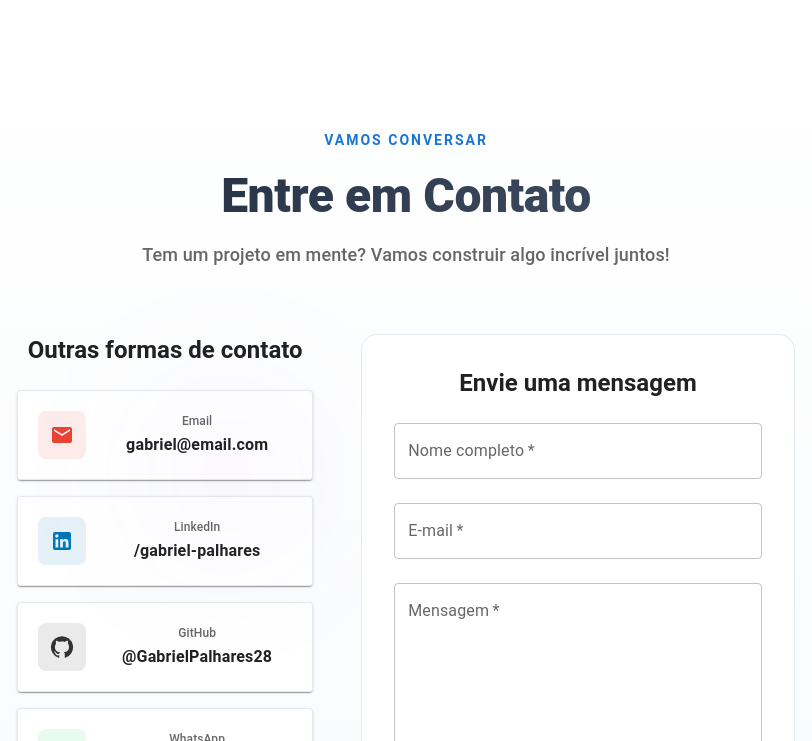
Test: Contact › posts the mapped payload and resets the form on success
Type "Gabriel Palhares" into the field labelled "Nome completo *" at (578, 451), box [394,423,762,479]
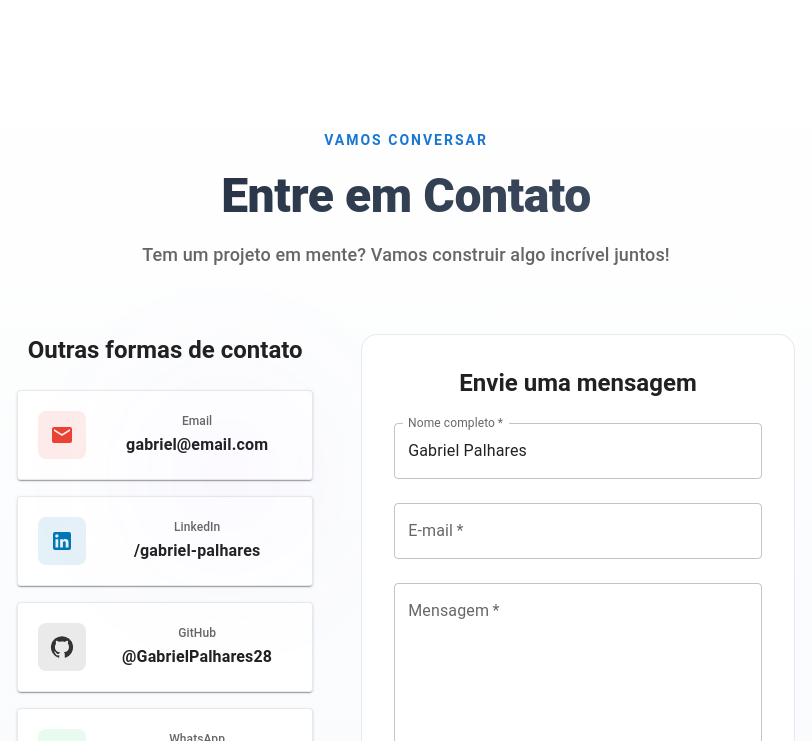
Type "gabriel@example.com" into the field labelled "E-mail *" at (578, 531), box [394,503,762,559]
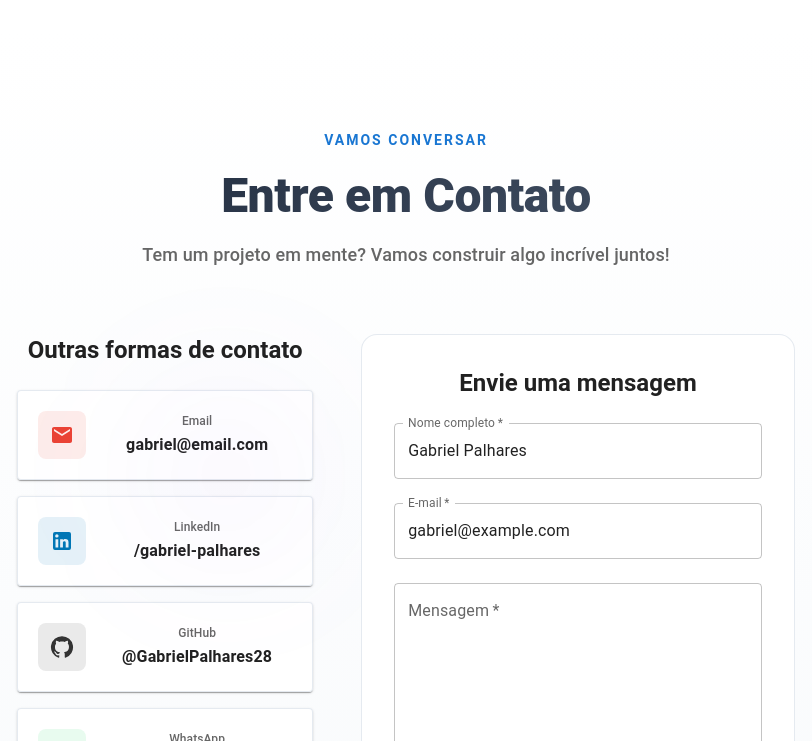
Type "Mensagem com mais de dez caracteres" into the text box labelled "Mensagem *" at (578, 668), box [408,599,748,737]
(page scrolled)
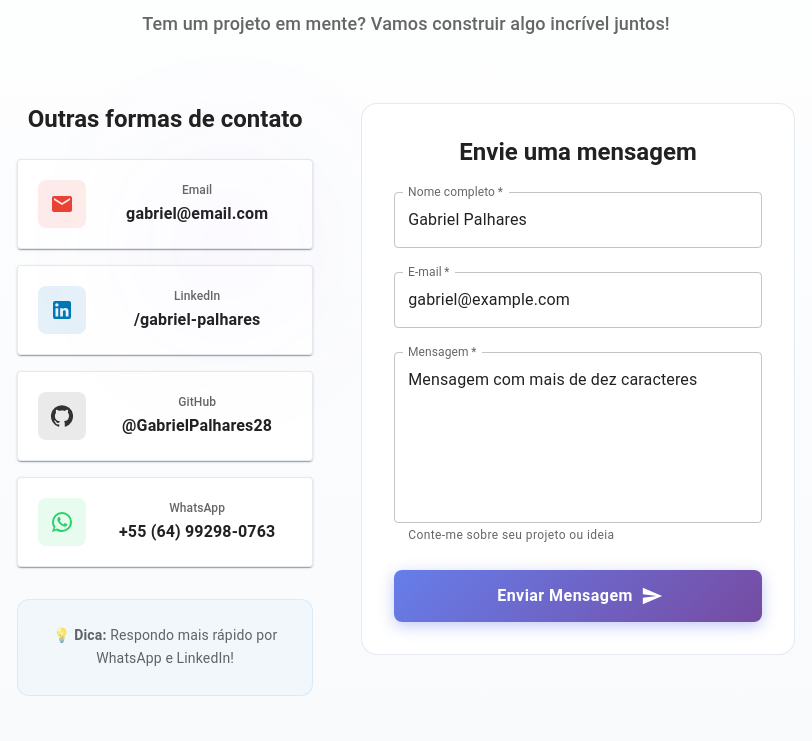
Submit the form, box [361,103,795,654]
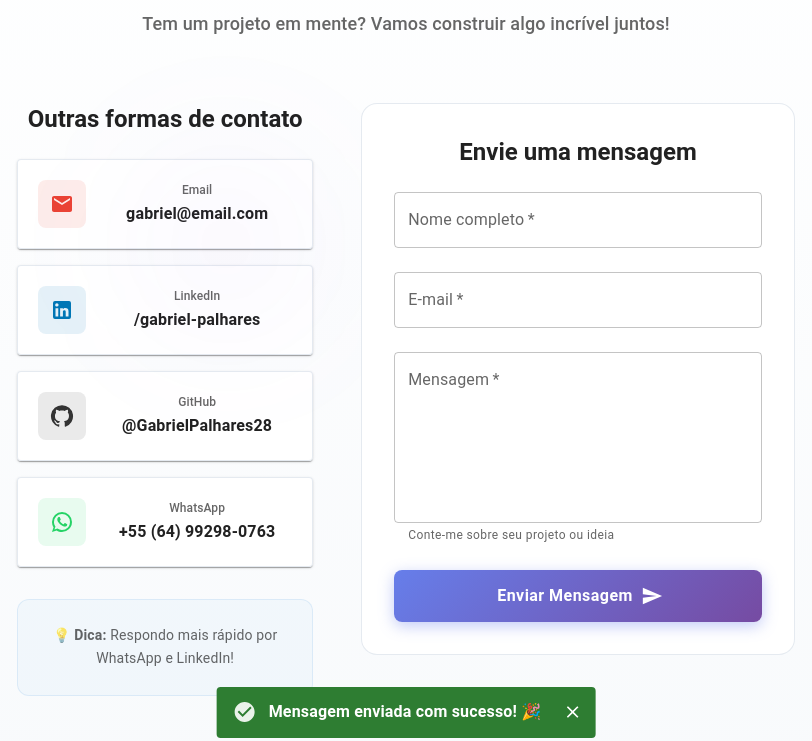
Now the text "Mensagem enviada com sucesso! 🎉" is shown, box [269,702,541,721]
Now the field labelled "Nome completo *" is empty, box [394,192,762,248]
Now the field labelled "E-mail *" is empty, box [394,272,762,328]
